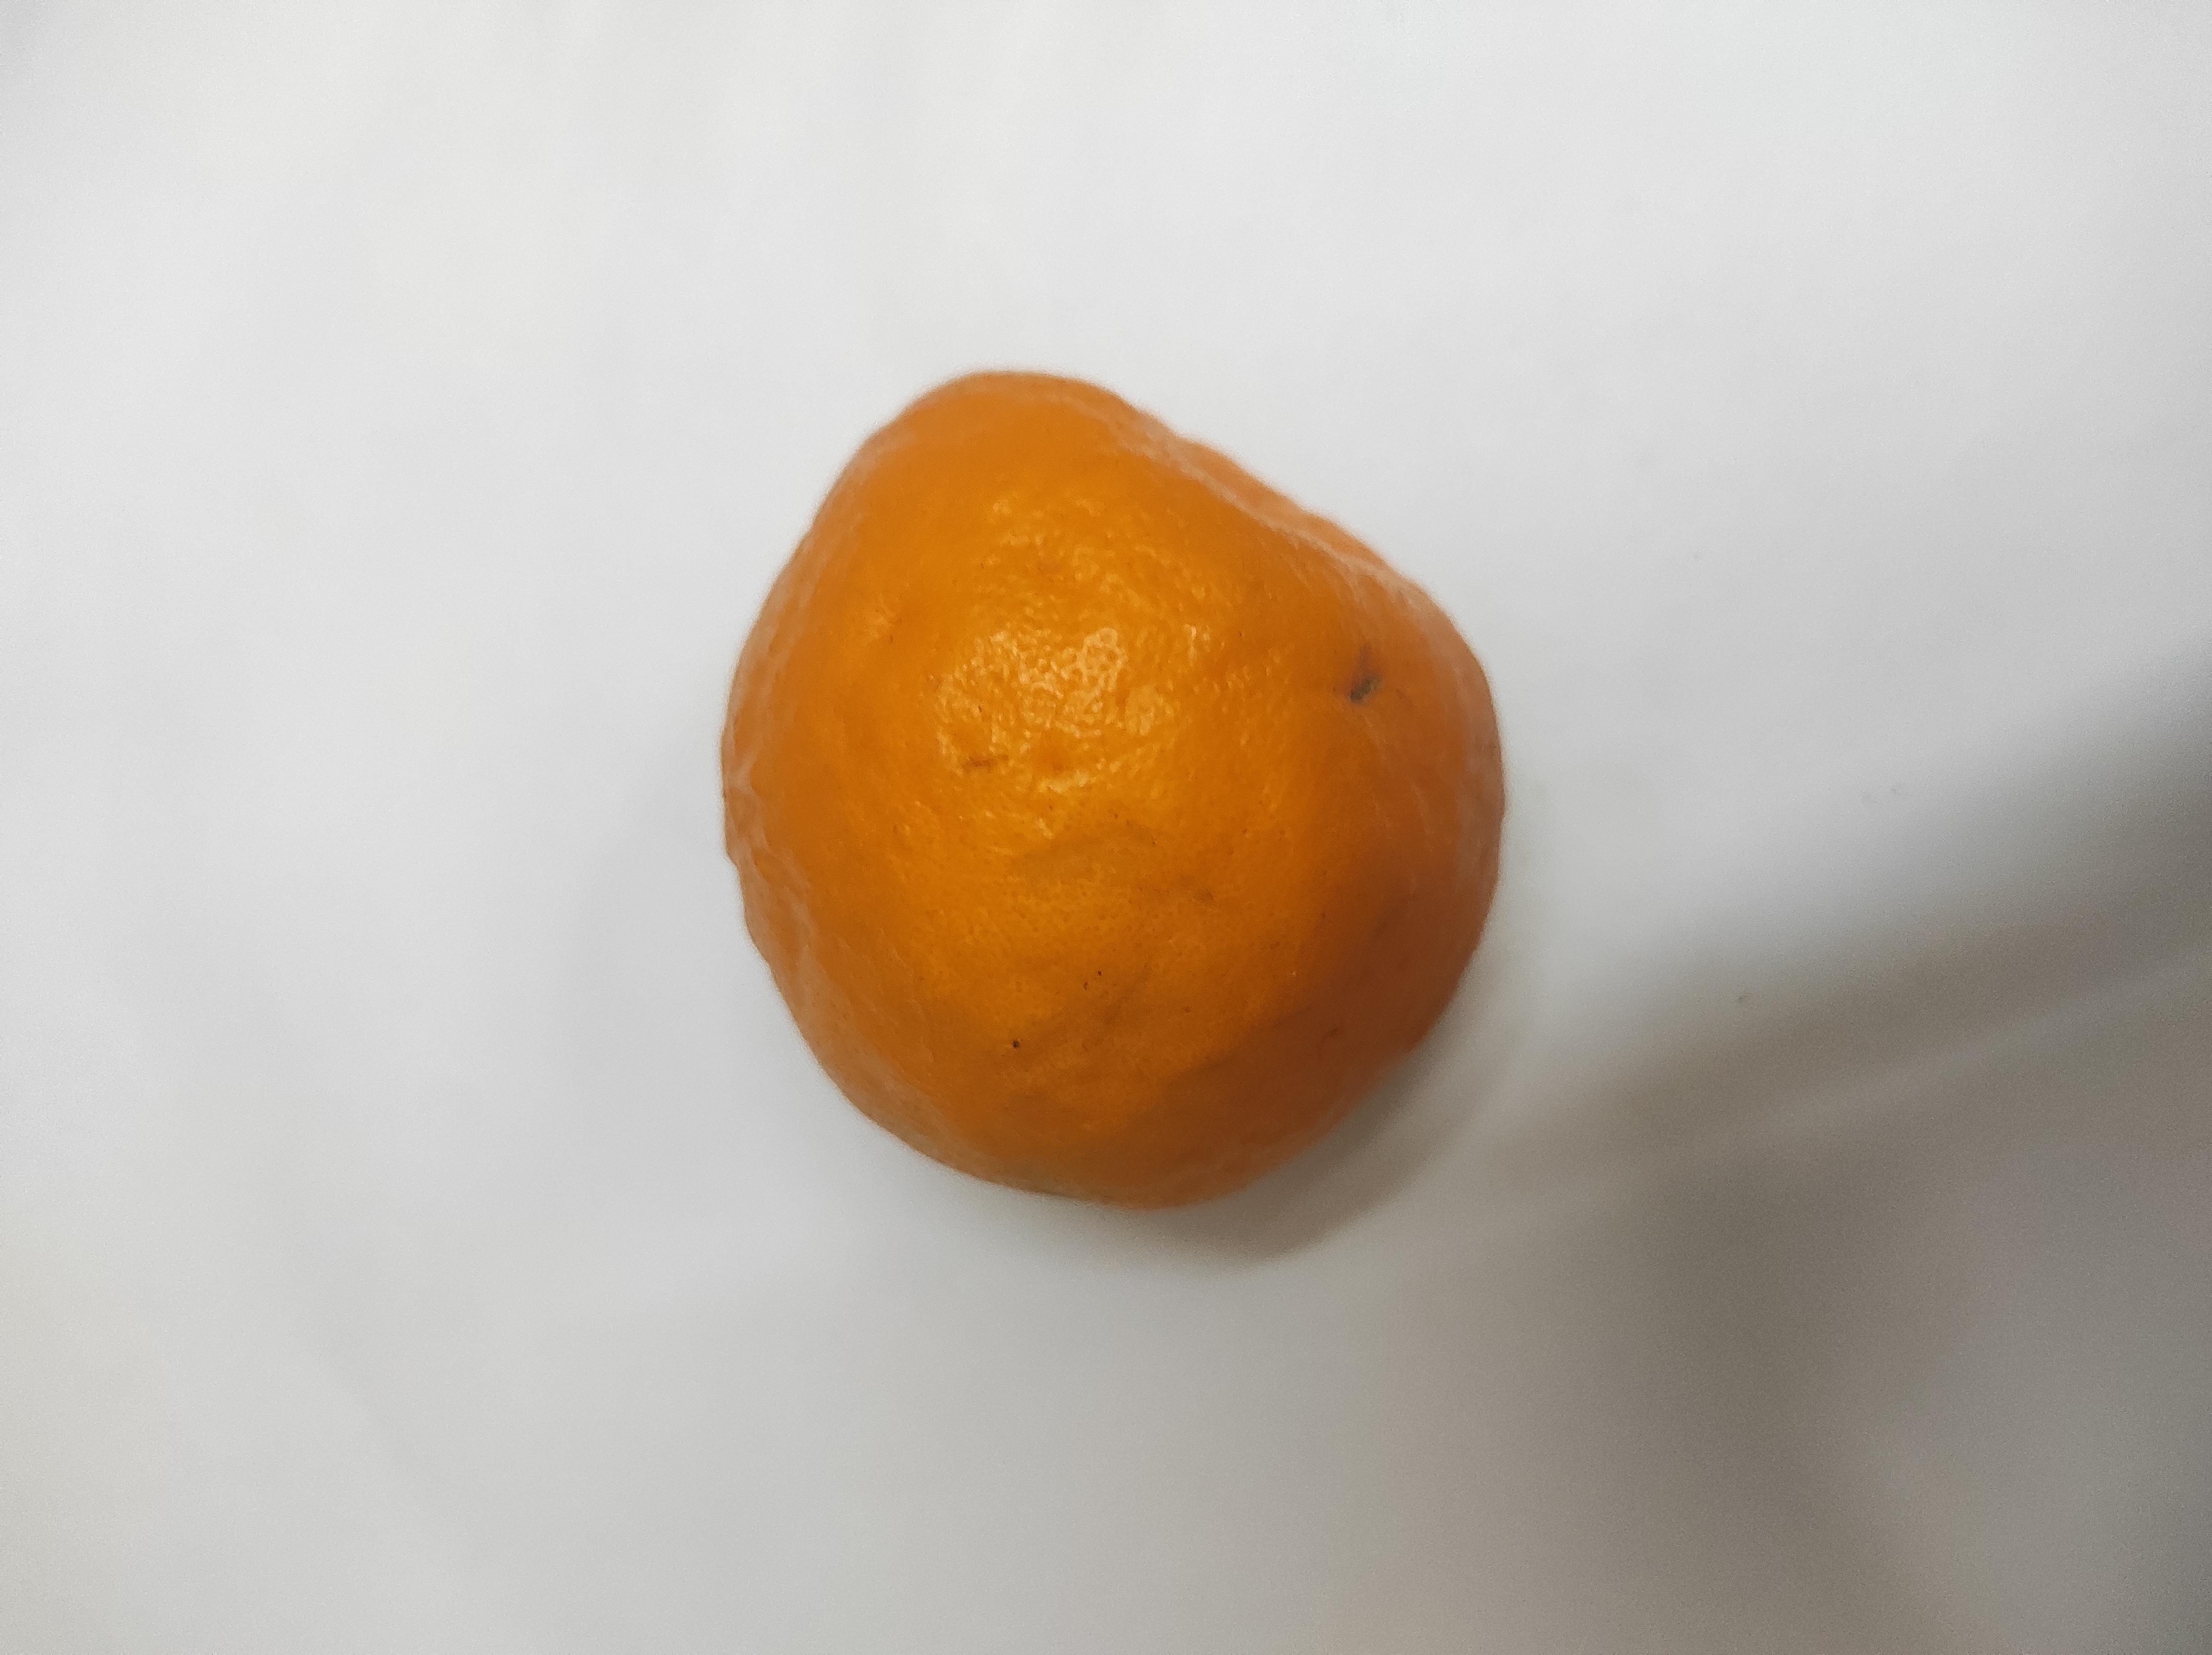Ripe: (567, 535, 1720, 1123)
